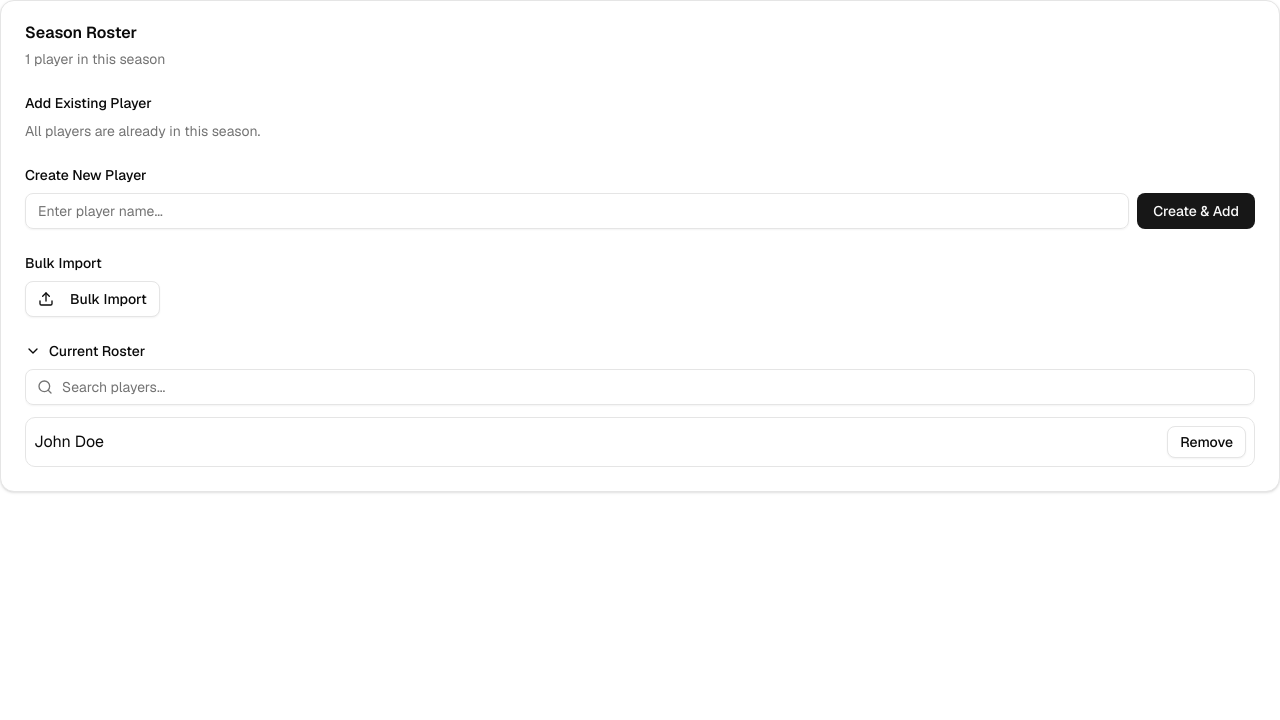
Test: RosterManager - Confirmation Dialog › clicking Remove button opens confirmation dialog
// Find and click the Remove button
Click the button "Remove" at (1207, 442), box left=1167, top=426, right=1246, bottom=458
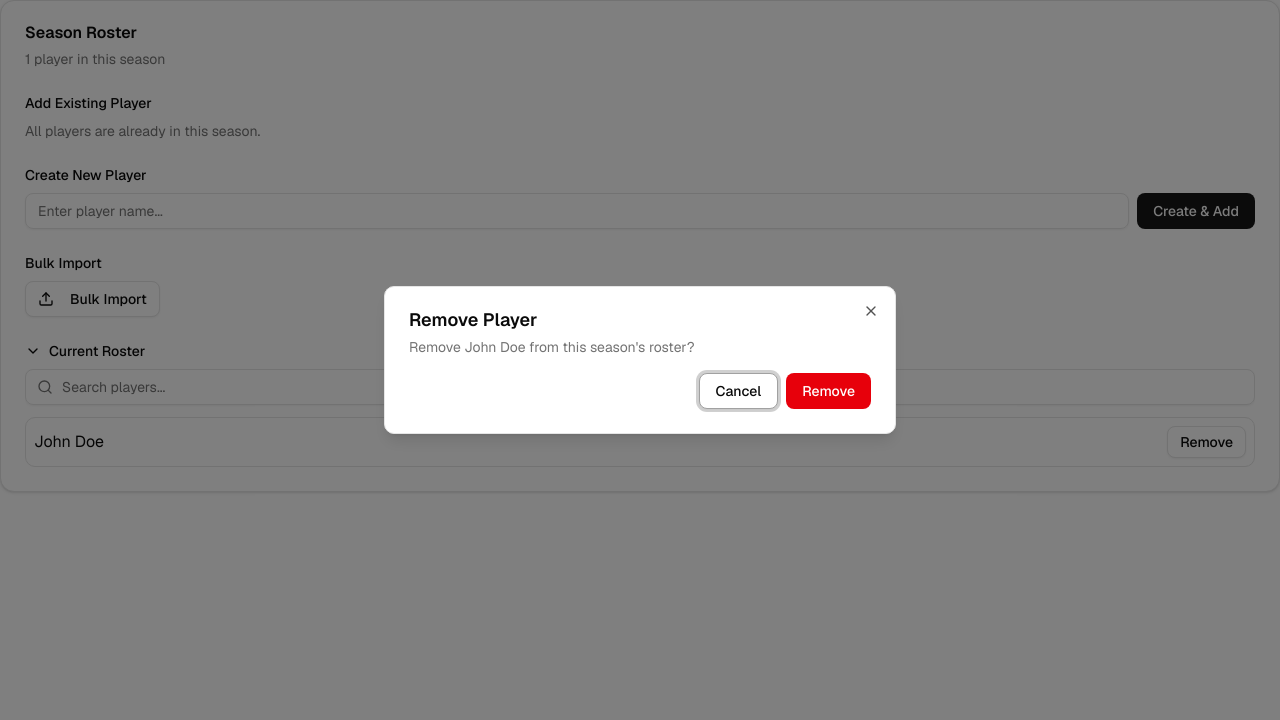
Result: the dialog is shown at left=384, top=286, right=896, bottom=434
Result: the heading "Remove Player" is shown at left=409, top=308, right=537, bottom=331
